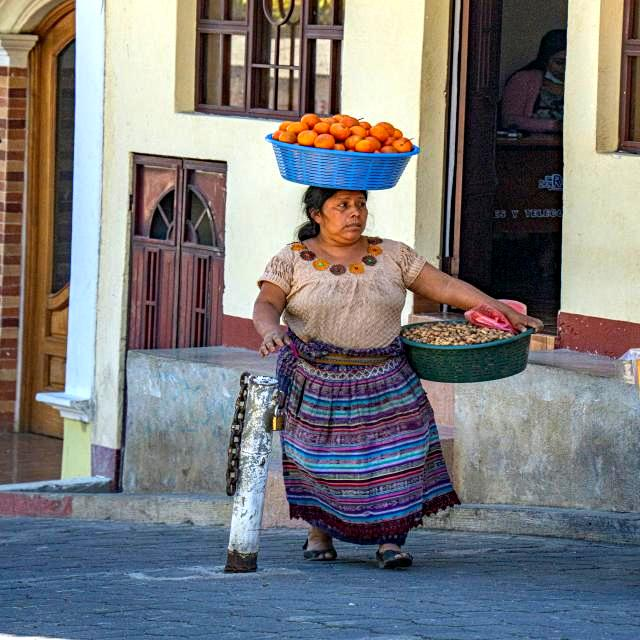no_hard_hat: (265, 131, 419, 191)
person: (253, 143, 457, 569)
